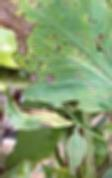Tomato leaf bacterial spot: (0, 0, 112, 114)
